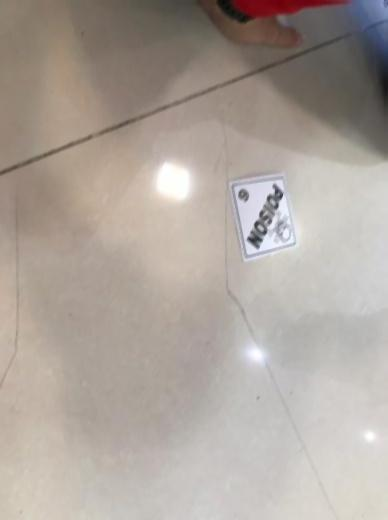poison: (230, 171, 300, 260)
